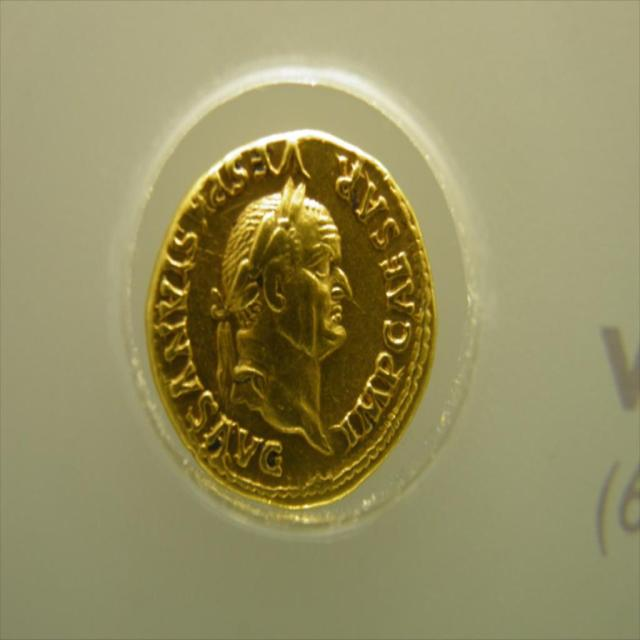Coin: (146, 129, 438, 507)
